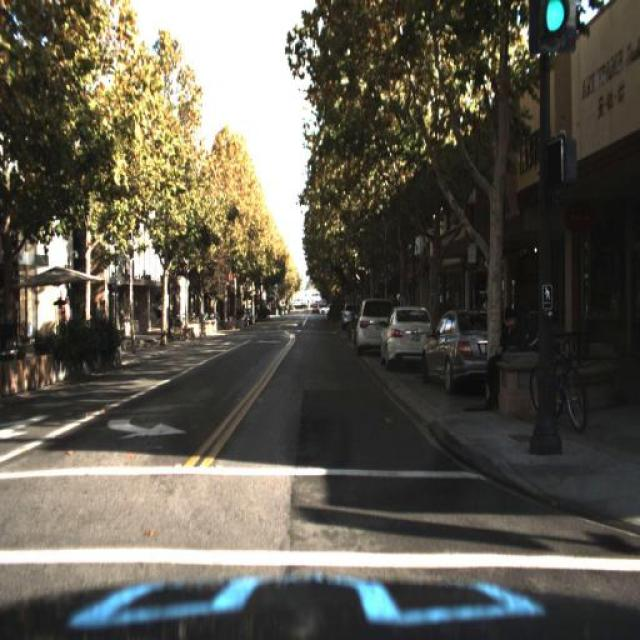car: (419, 308, 490, 389), (380, 307, 436, 371), (354, 298, 397, 348)
trafficLight: (483, 302, 529, 410), (92, 297, 103, 335), (61, 296, 71, 336)
